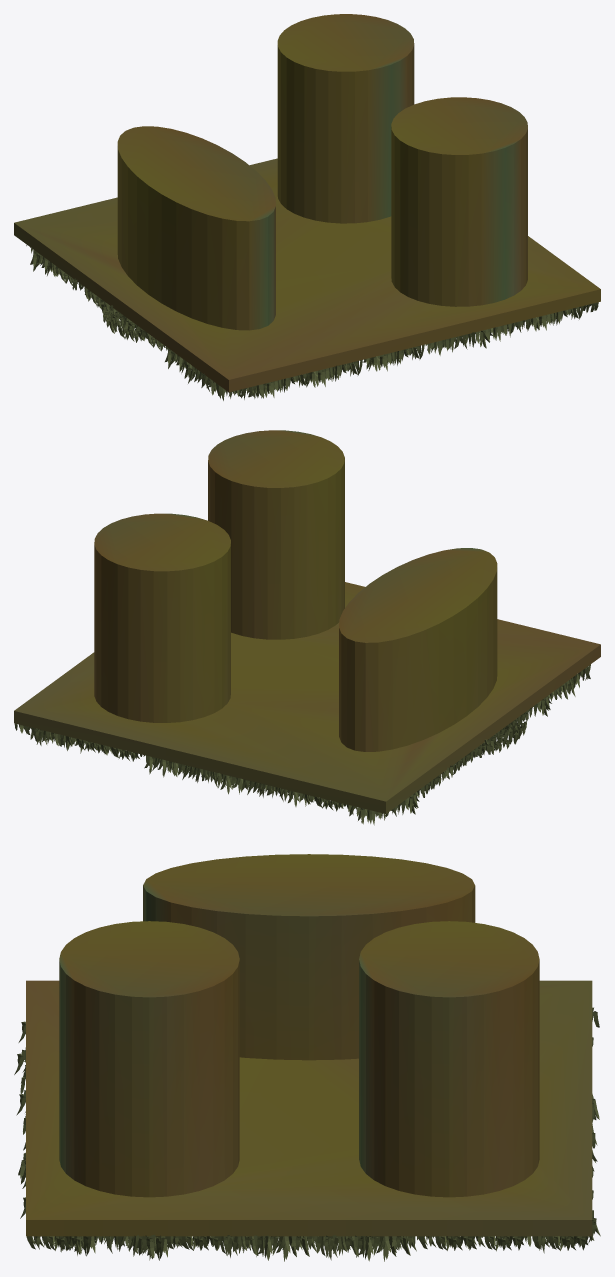
File: UnderHoles.obj
3 views of the same model, one above another, from view 1: azimuth 30°, elevation 25°; view 2: azimuth 150°, elevation 25°; view 3: azimuth 270°, elevation 25° (orthographic). The views are drawn at different scales.
Parts seen in each view (by area): view 1: Cube; view 2: Cube; view 3: Cube.
Boxes of the visible parts, <box> form: Cube: <box>14,14,600,400</box>; Cube: <box>14,430,600,825</box>; Cube: <box>14,854,600,1261</box>.
Size of the model in its own units: 21.42 by 9.53 by 20.73.
